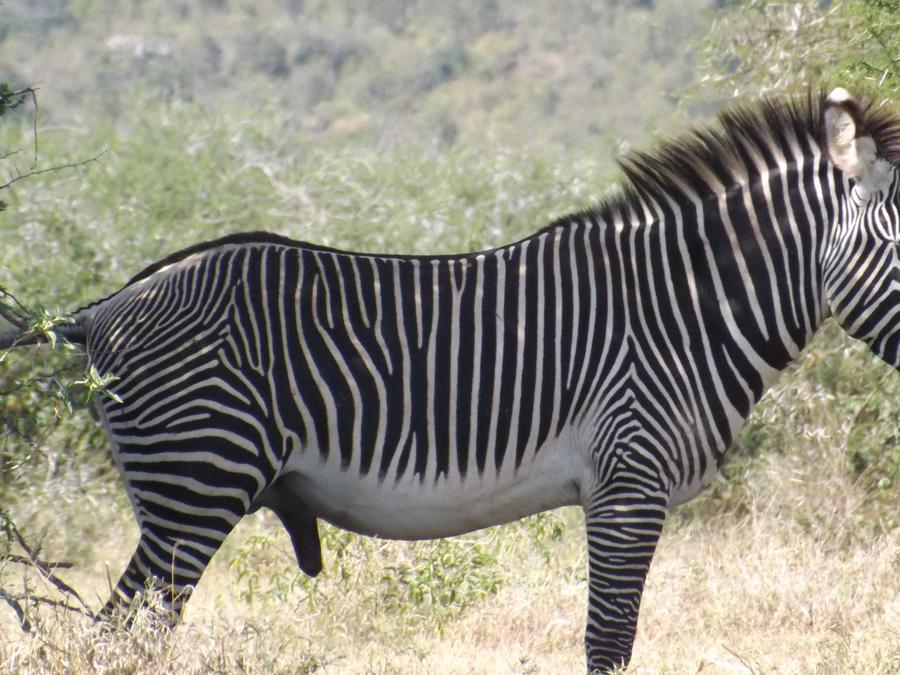zebra_grevys: (68, 195, 685, 517)
